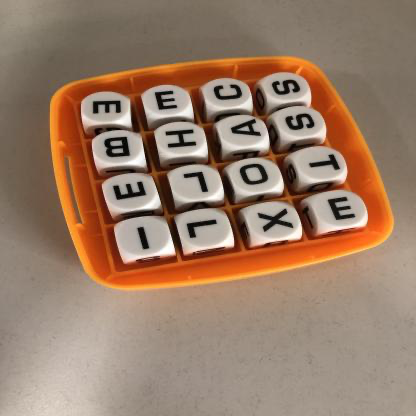a: (221, 117, 265, 148)
b: (94, 132, 146, 166)
c: (205, 78, 252, 109)
e: (315, 192, 368, 231), (107, 176, 155, 211), (84, 94, 131, 125), (145, 86, 191, 117)
h: (157, 123, 206, 156)
i: (119, 219, 170, 256)
l: (179, 209, 231, 249), (174, 167, 223, 201)
o: (231, 158, 280, 195)
s: (277, 108, 326, 139), (263, 73, 310, 103)
t: (297, 148, 347, 182)
x: (249, 203, 298, 240)
